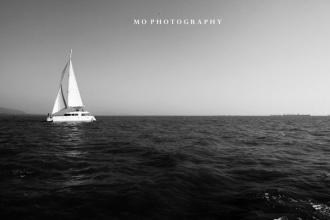fanchuan: (43, 49, 96, 125)
